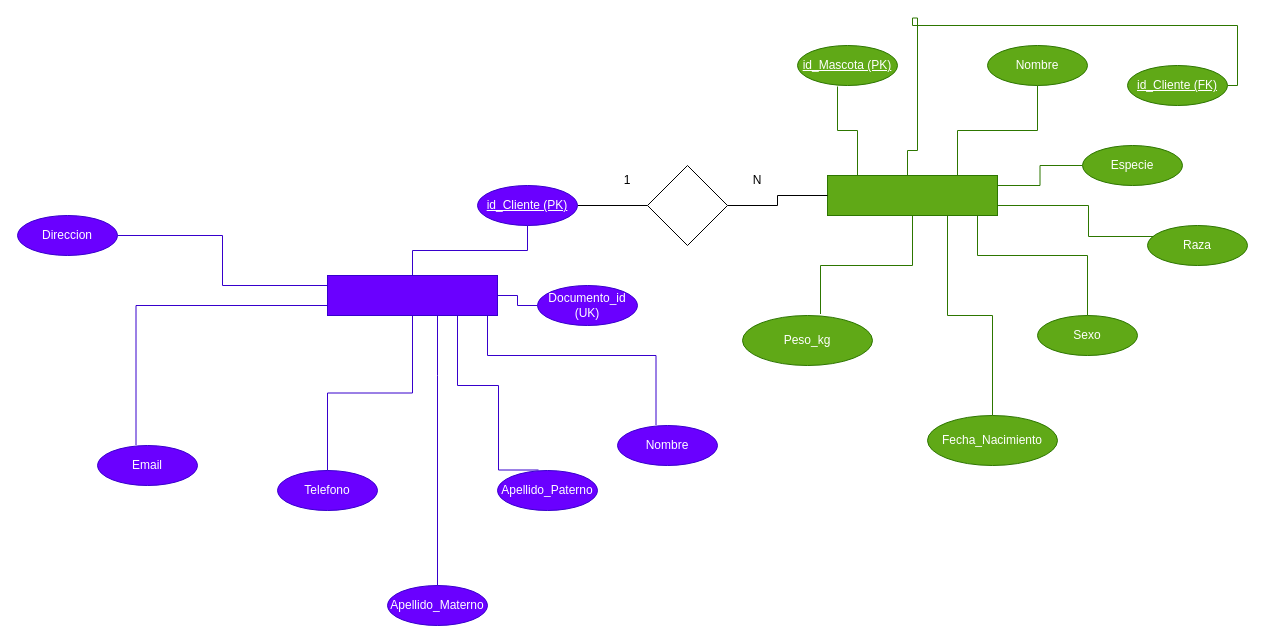
Image size: 1265x643. Some labels were removed from this diagram. Here are the shapes that lost their labels. From the top down, the centre of each, then its label:
point 687,205: Tiene
point 912,195: Mascota (Paciente)
point 412,295: Cliente (Propietario)
